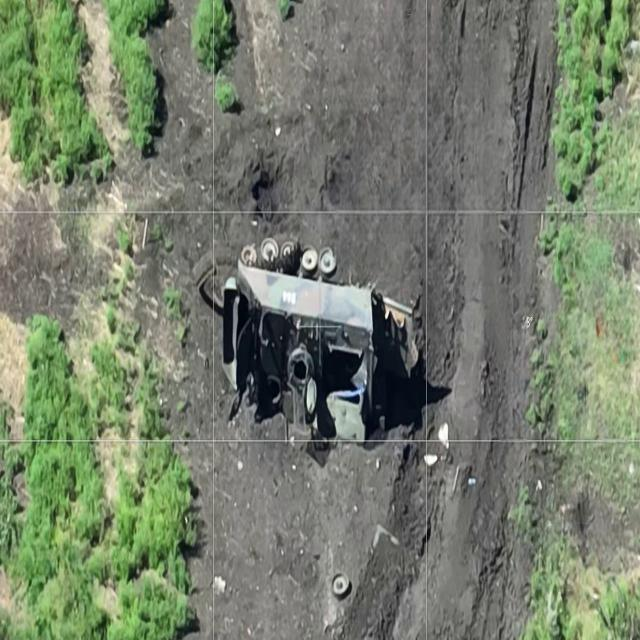APC: (220, 235, 421, 449)
